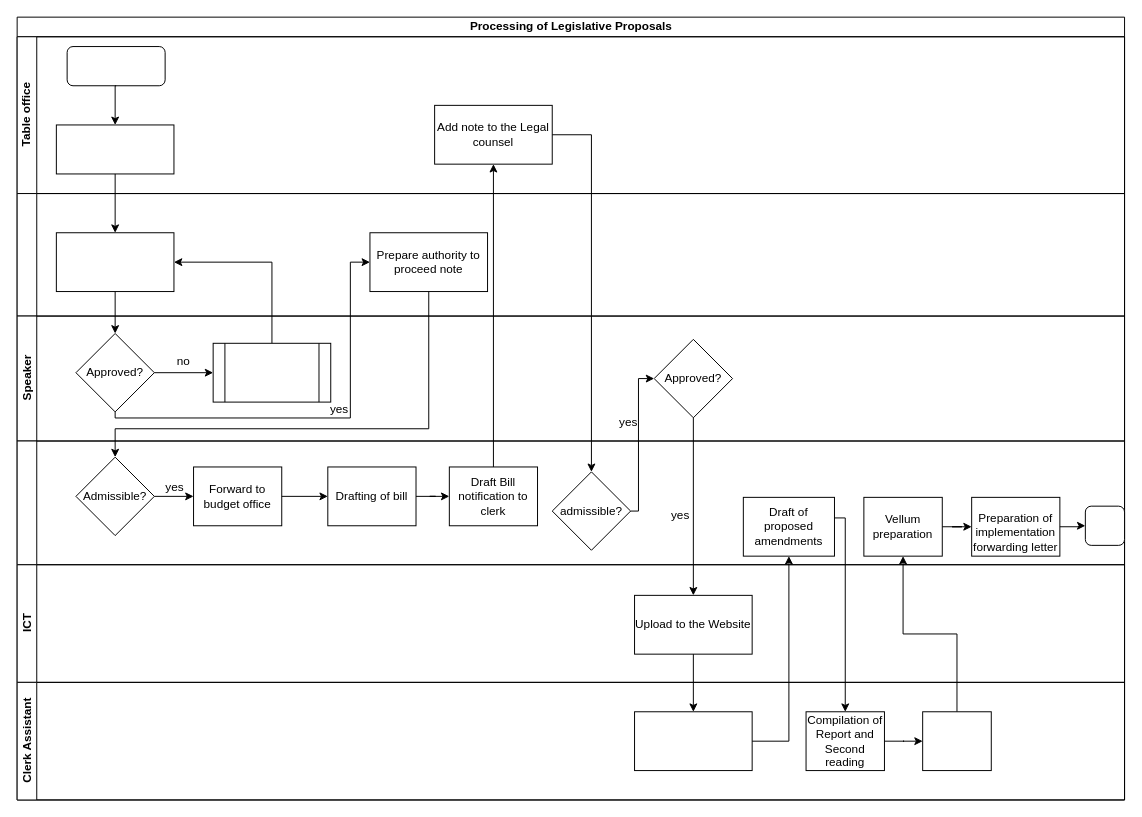
Image size: 1142x817. Some labels were removed from this diagram. Here are the shapes that lost their labels. From the top down, the box of each, then its label:
(66, 46, 165, 86): Start
(55, 124, 174, 174): Send Notification to the clerk
(55, 232, 174, 292): Prepare forwading notes and forward to the speaker
(16, 193, 1125, 316): Clerk
(212, 342, 331, 402): Add comments and return to clerk
(16, 440, 1125, 565): Legal counsel
(1084, 505, 1125, 545): End
(634, 711, 752, 771): Submission of Public views
(922, 711, 991, 771): Third reading
